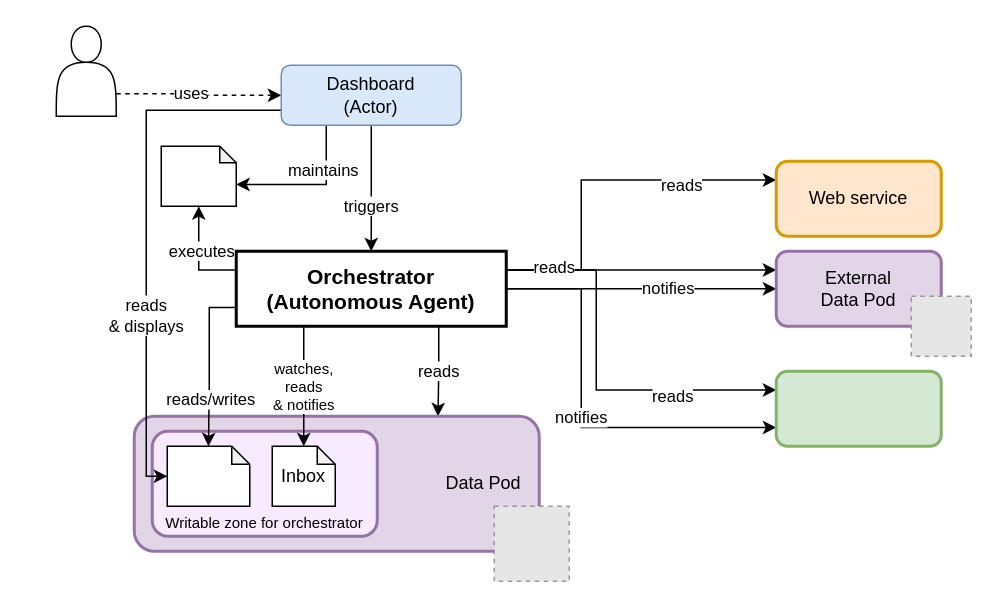
Some shapes in this 998 by 608 pixel diagram are drawn without their labels. Grey dashed boxes stand in for pictures. Each missing label, with the centre of its shape:
Business Rules: the point at 198,175
Event log: the point at 208,475
Maintainer (Human Agent): the point at 85,70
Service Hub: the point at 858,408
